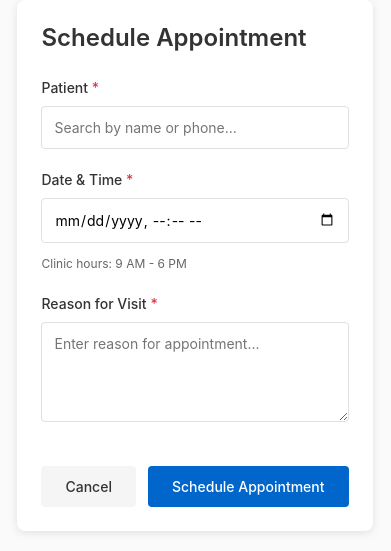
it: ScheduleAppointmentForm › Cancel › should clear form when cancel clicked
// Fill some fields
Type "John" into the field with placeholder "Search by name or phone...".
click(195, 127); type("John")  # box [42,106,349,149]
Wait 300 ms
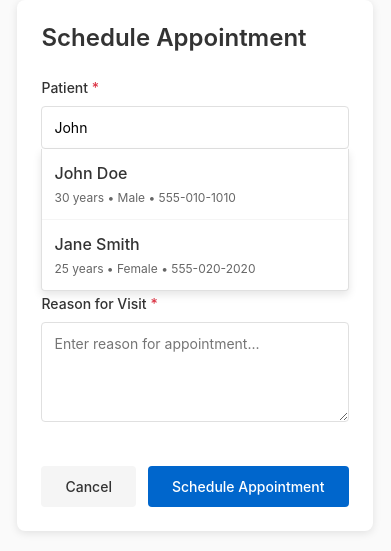
Check: the text "John Doe" is shown
Click the text "John Doe".
click(91, 173)  # box [54,163,128,183]
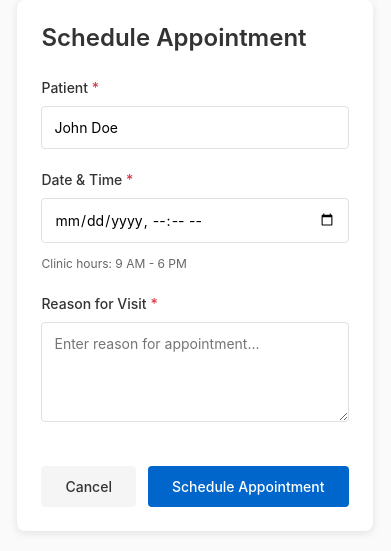
Type "Checkup" into the text box with placeholder "Enter reason for appointment...".
click(195, 372); type("Checkup")  # box [42,322,349,422]
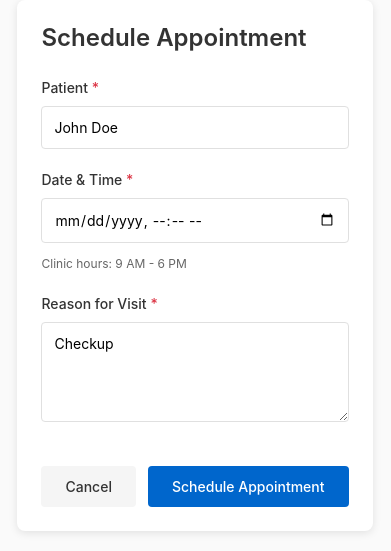
// Click cancel
Click the button "Cancel".
click(89, 486)  # box [42,466,136,507]
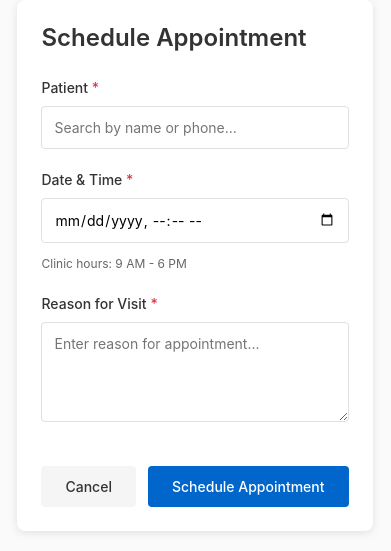
Check: the field with placeholder "Search by name or phone..." is empty, box [42,106,349,149]
Check: the text box with placeholder "Enter reason for appointment..." is empty, box [42,322,349,422]
